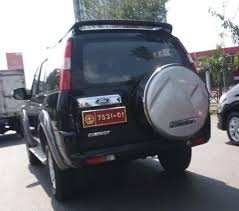plate: (81, 107, 126, 126)
